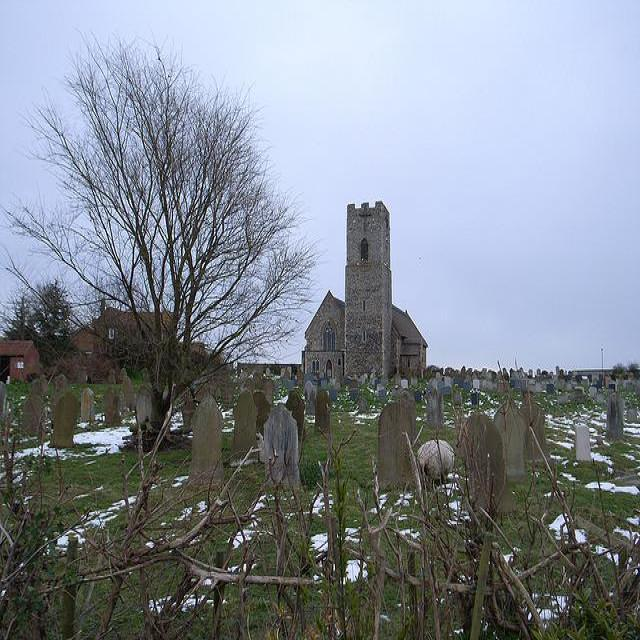Sheep: (416, 440, 455, 496)
